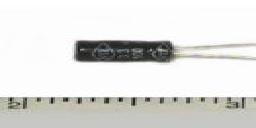Electrolytic-Capacitor: (71, 36, 256, 68)
